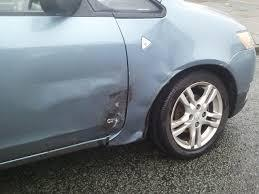doorouter-dent: (41, 24, 130, 134)
fender-dent: (119, 11, 220, 71)
